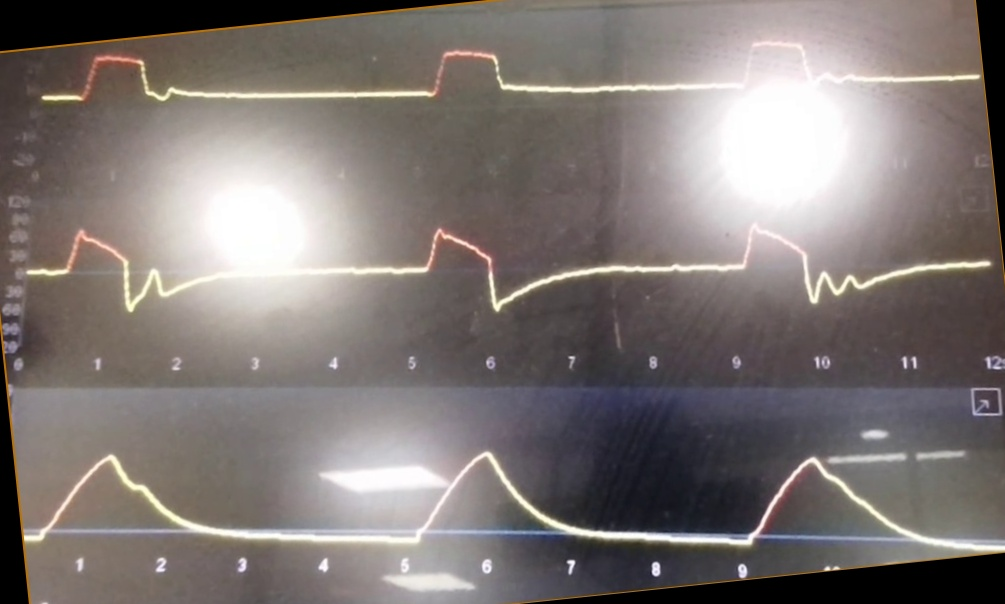Premature_cycling Flow: (27, 208, 996, 341)
Premature_cycling Volume: (24, 436, 975, 552)
